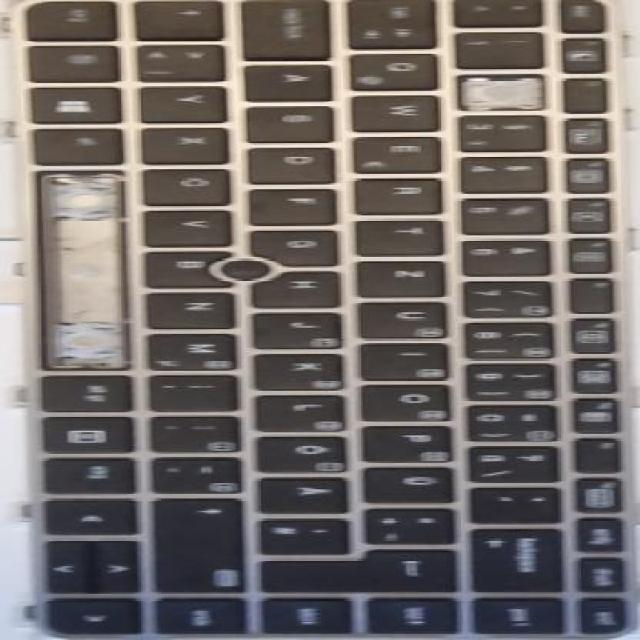Keyboard problems: (38, 175, 126, 368), (460, 77, 543, 109)
